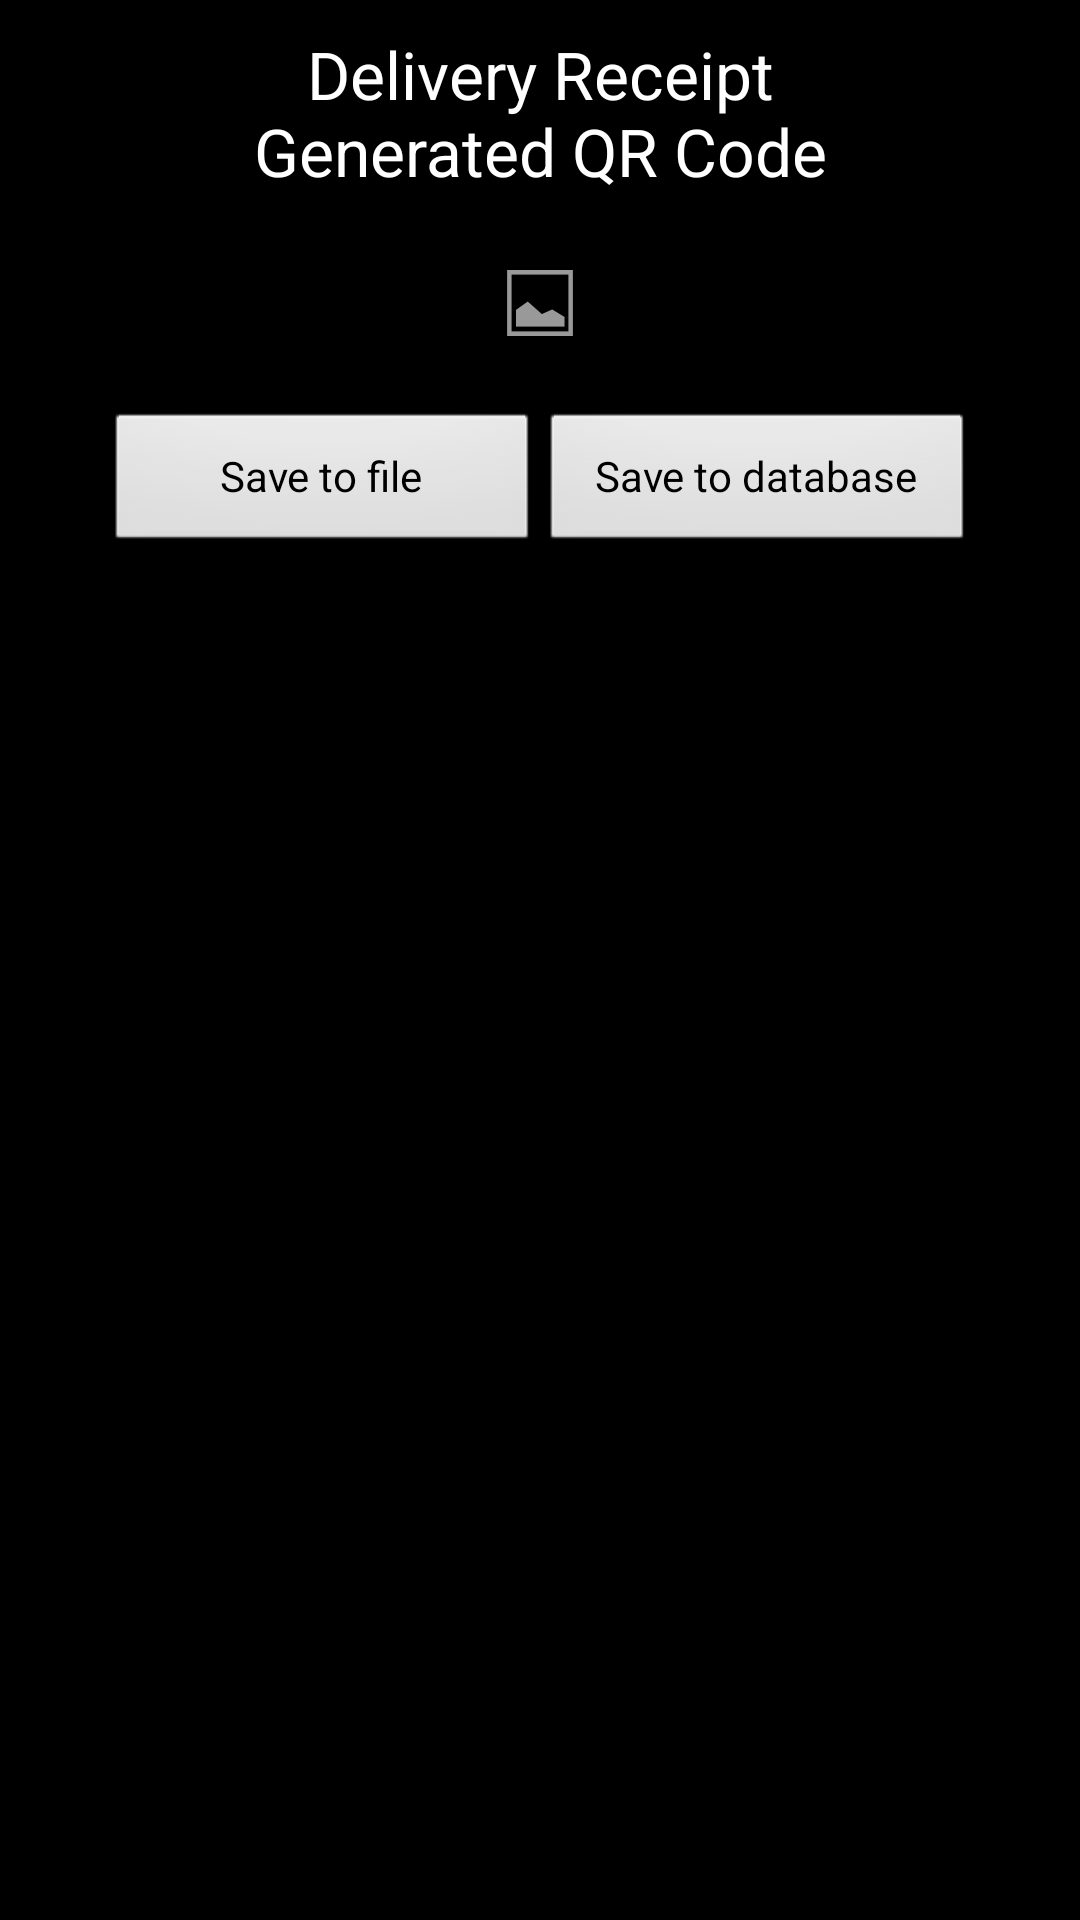

Locate icon controls on the screen. Image size 1080px×1920px, boxes as Rect(x1, y1, x2, y2).
gallery: Rect(507, 270, 573, 336)
